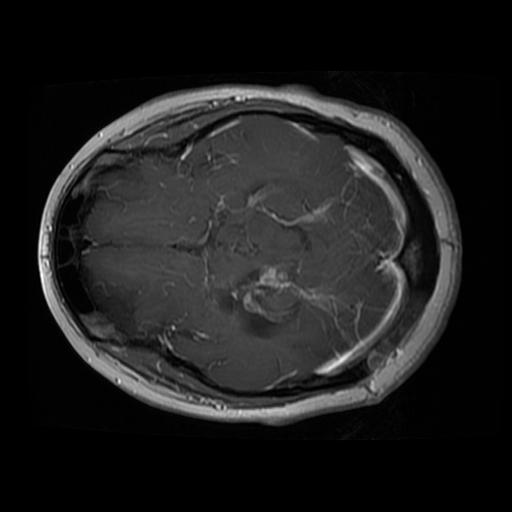glioma: (202, 255, 307, 343)
